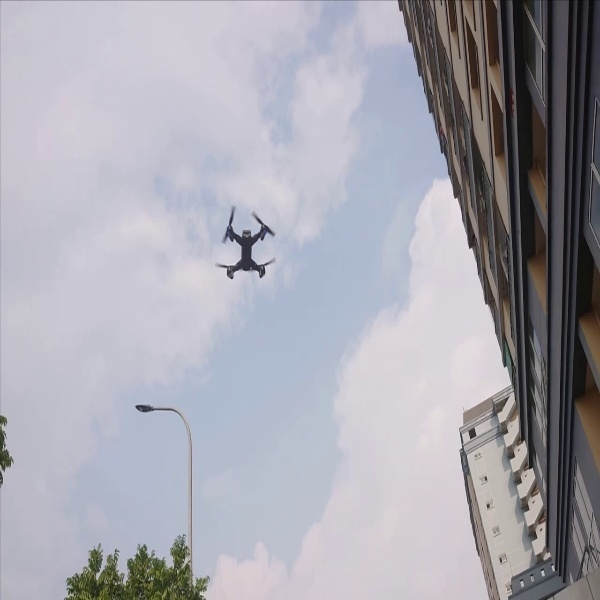drone: (216, 194, 281, 282)
